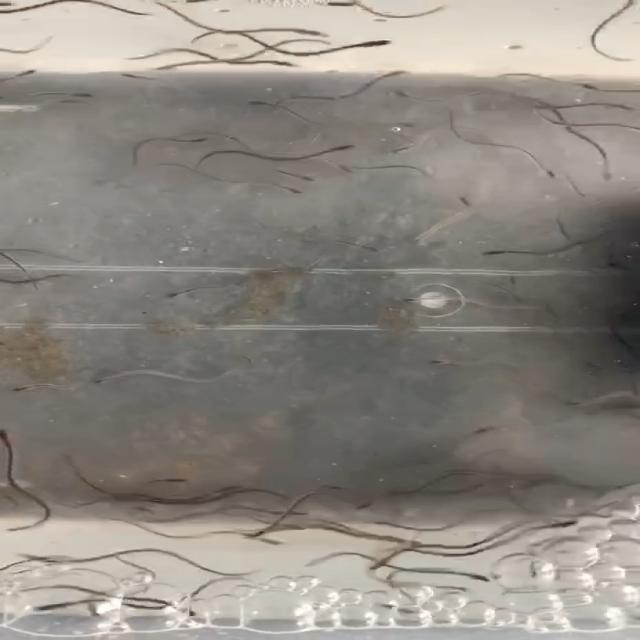active_glass_eel: (456, 420, 531, 444), (268, 182, 330, 209), (342, 238, 403, 263), (5, 548, 66, 572), (372, 62, 434, 84), (350, 488, 392, 519), (0, 421, 41, 452), (530, 515, 589, 536), (574, 73, 624, 96), (343, 35, 406, 53), (53, 86, 111, 105), (316, 138, 377, 156), (288, 20, 342, 40), (91, 486, 140, 508), (586, 162, 625, 188), (223, 97, 290, 112), (37, 268, 96, 285), (363, 88, 424, 104), (143, 474, 204, 490), (259, 56, 316, 73), (458, 568, 496, 593), (398, 229, 450, 247), (169, 601, 213, 622), (158, 287, 207, 305), (4, 64, 51, 82), (422, 354, 471, 371), (106, 68, 158, 84), (481, 242, 520, 262), (240, 526, 279, 546), (450, 193, 487, 214), (170, 132, 224, 146), (399, 294, 448, 309), (356, 557, 399, 574), (280, 172, 330, 186), (552, 186, 595, 201), (538, 165, 567, 187), (33, 600, 68, 618), (92, 372, 124, 391), (600, 100, 640, 114), (327, 161, 361, 176), (10, 383, 44, 396)
